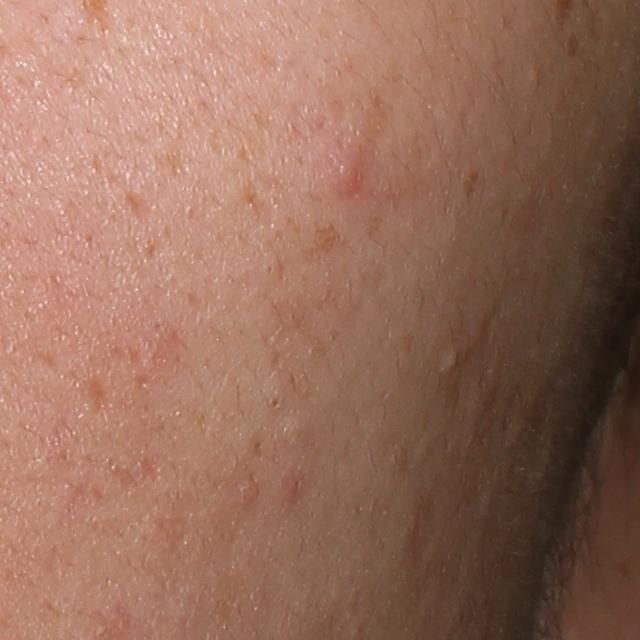atrophic_scar: (237, 181, 285, 236), (73, 371, 121, 421), (124, 189, 162, 226)
comedo: (443, 341, 464, 380), (528, 65, 544, 86)
papule: (329, 164, 368, 197)
